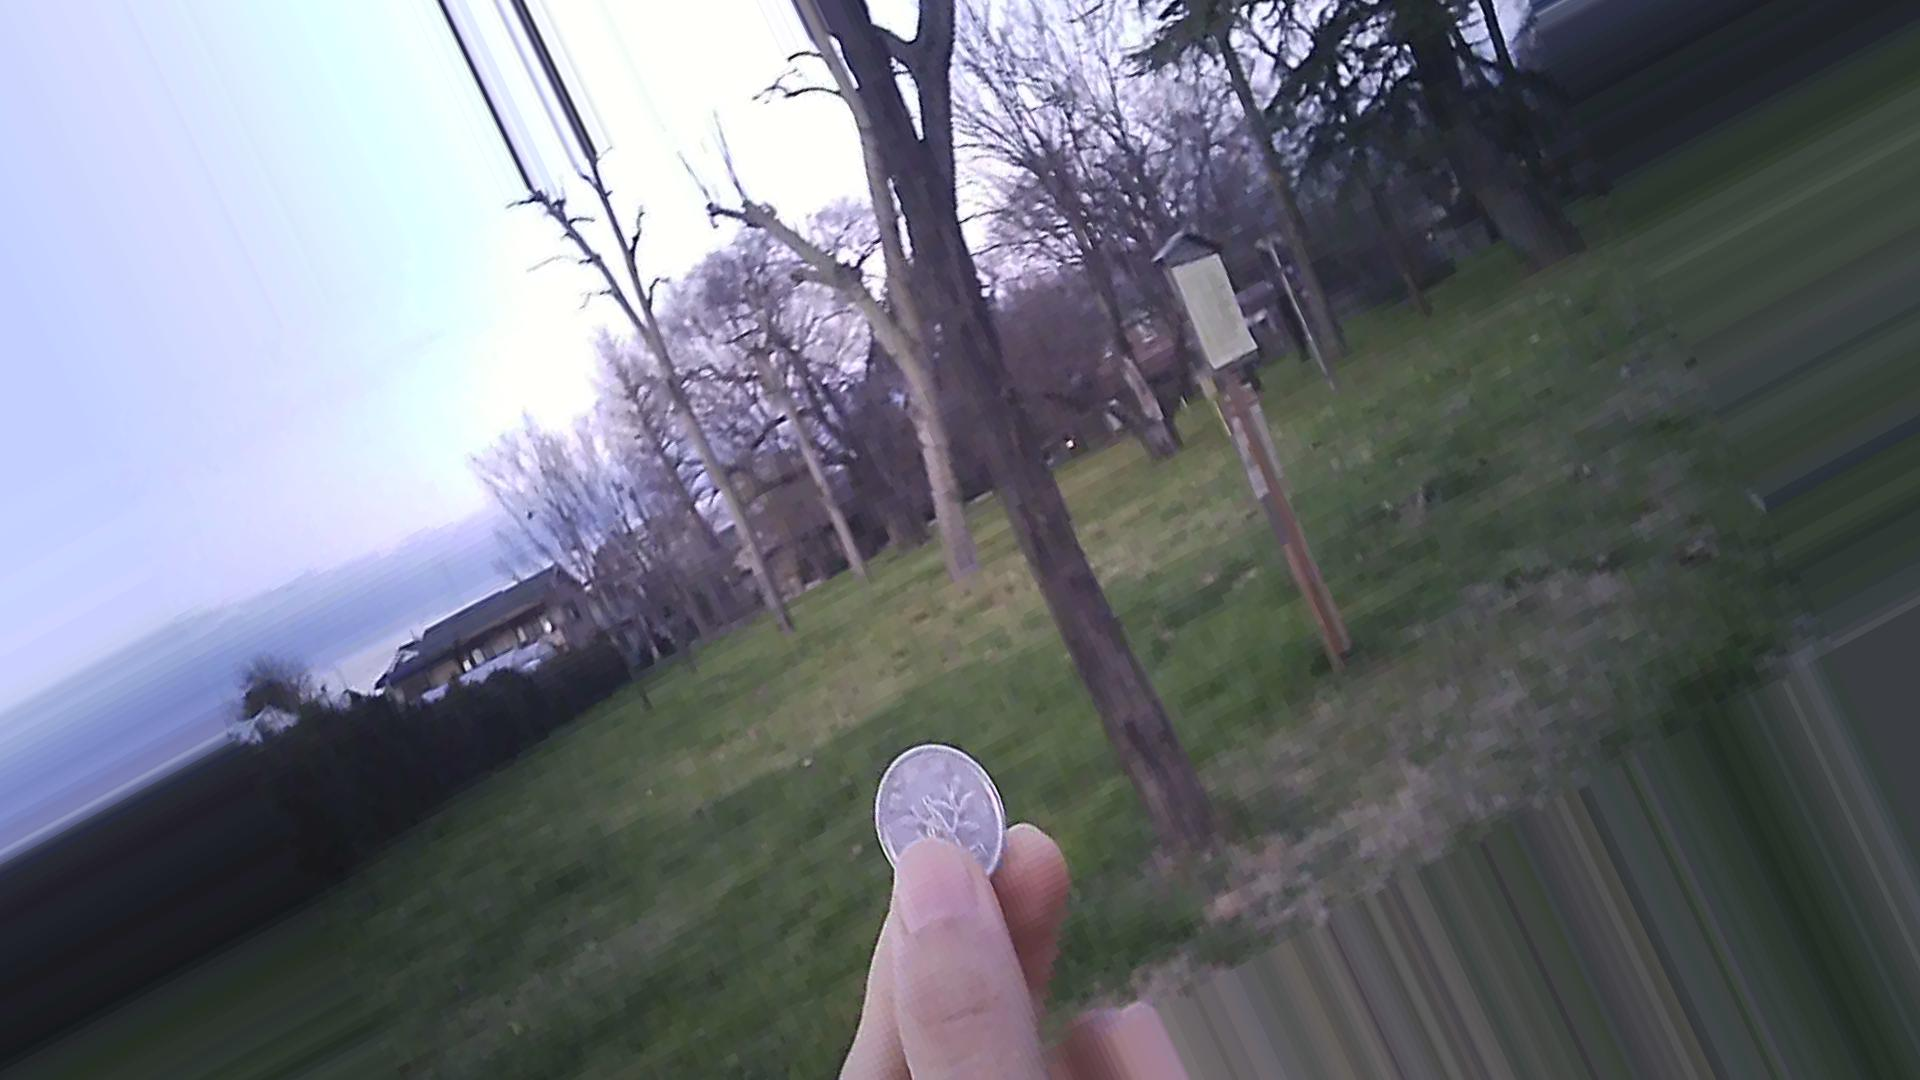1 Yen: (861, 742, 1015, 891)
